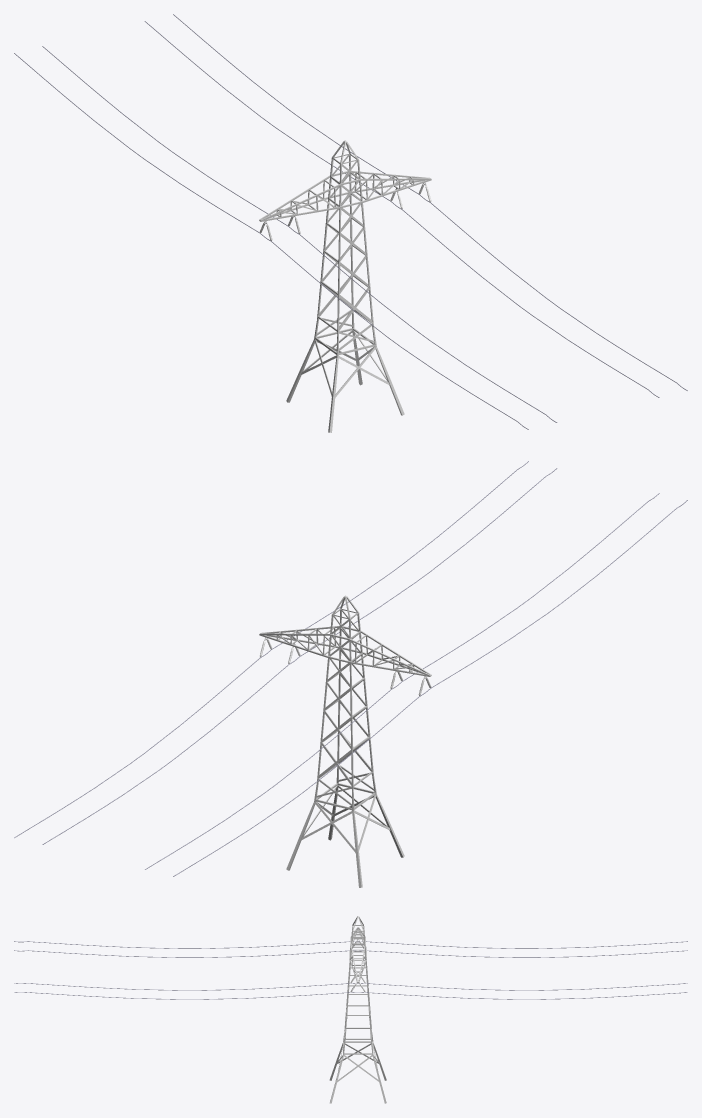
The model's file is electric_pole (1).glb.
3 views of the same model, one above another, from view 1: azimuth 30°, elevation 25°; view 2: azimuth 150°, elevation 25°; view 3: azimuth 270°, elevation 25° (orthographic). The views are drawn at different scales.
Parts seen in each view (by area): view 1: MetalPole_1, Cylinder.004_0; view 2: MetalPole_1, Cylinder.004_0; view 3: Cylinder.004_0, MetalPole_1.
Part boxes in pixels (bbox=[...]): MetalPole_1: bbox=[259, 140, 431, 432]; Cylinder.004_0: bbox=[14, 14, 687, 429]; MetalPole_1: bbox=[259, 595, 431, 887]; Cylinder.004_0: bbox=[14, 461, 687, 876]; Cylinder.004_0: bbox=[14, 941, 687, 999]; MetalPole_1: bbox=[329, 916, 386, 1103].
Size of the model in its own units: 99.88 by 150 by 521.
3 materials, 1 textured.
